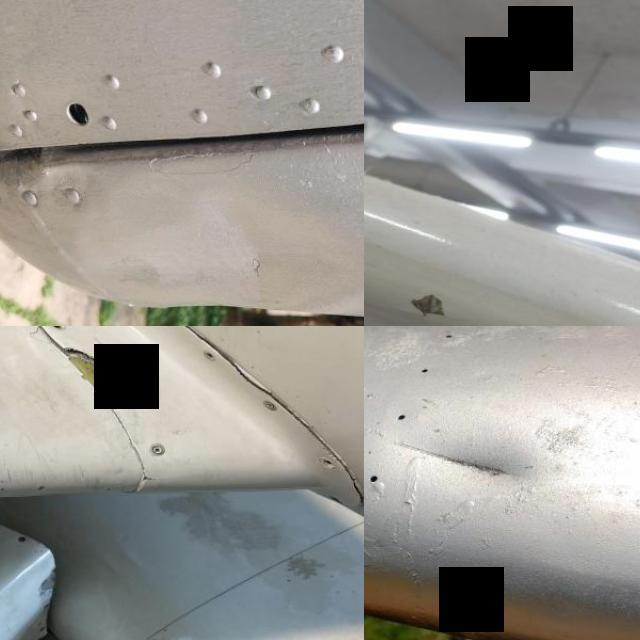Crack: (54, 343, 127, 413), (220, 348, 282, 395), (392, 289, 469, 326), (344, 455, 364, 510), (124, 476, 174, 492)
Dent: (386, 385, 537, 513)
Missing_Fastener: (54, 90, 115, 156), (202, 351, 216, 362), (321, 458, 334, 468), (51, 326, 64, 330)
